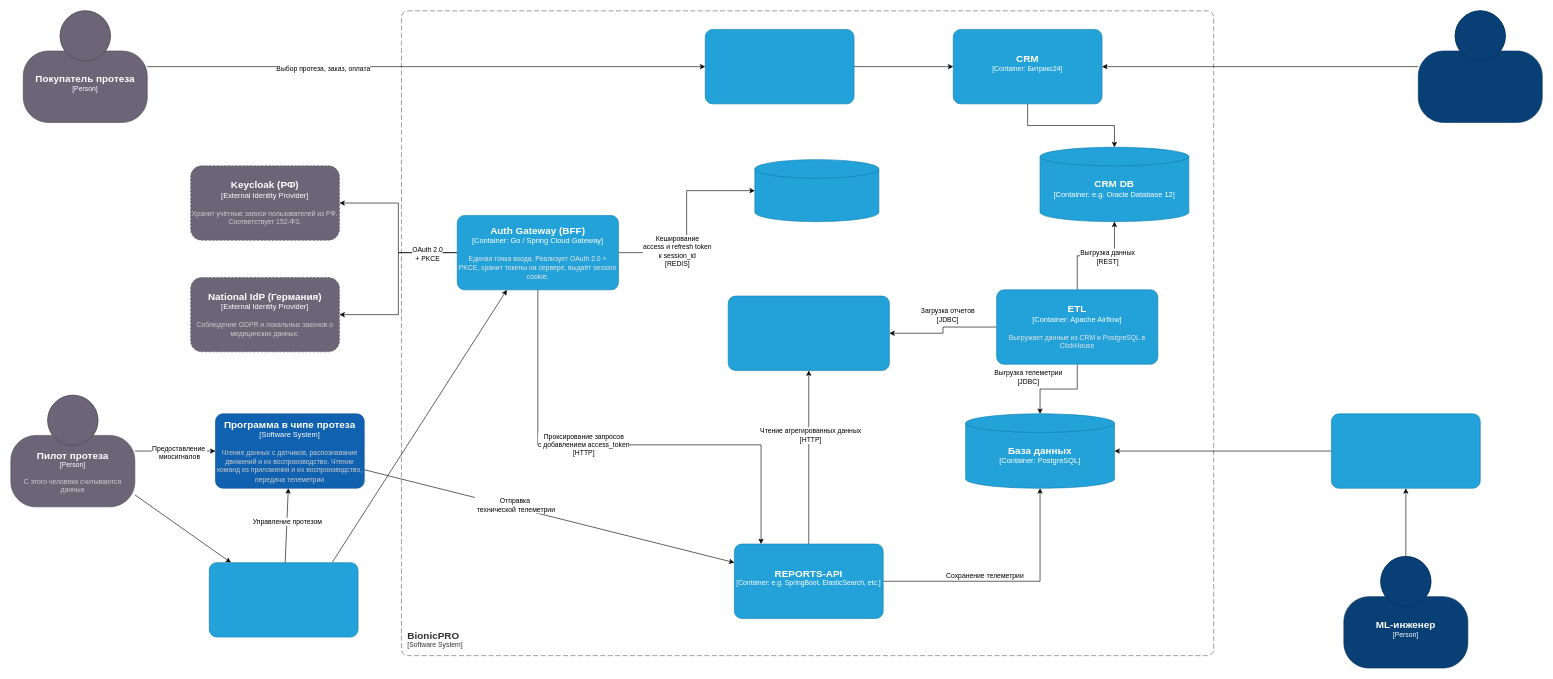
The diagram is 1553 pixels wide and 679 high, and some of its shapes have lost their labels. Each missing label, with the centre of its shape:
AnaliticsDB [Container: ClickHouse] Аналитические отчеты по телеметрии: [808,332]
cli tool [Container: e.g. SpringBoot, ElasticSearch, etc.]: [1405,450]
Session Storage [Container: Redis]: [816,190]
Интернет-магазин [Container: Битрикс24]: [779,66]
Оператор производства [Person]: [1480,66]
Приложение для донастройки протеза [Container: iOD, Android]: [283,599]
